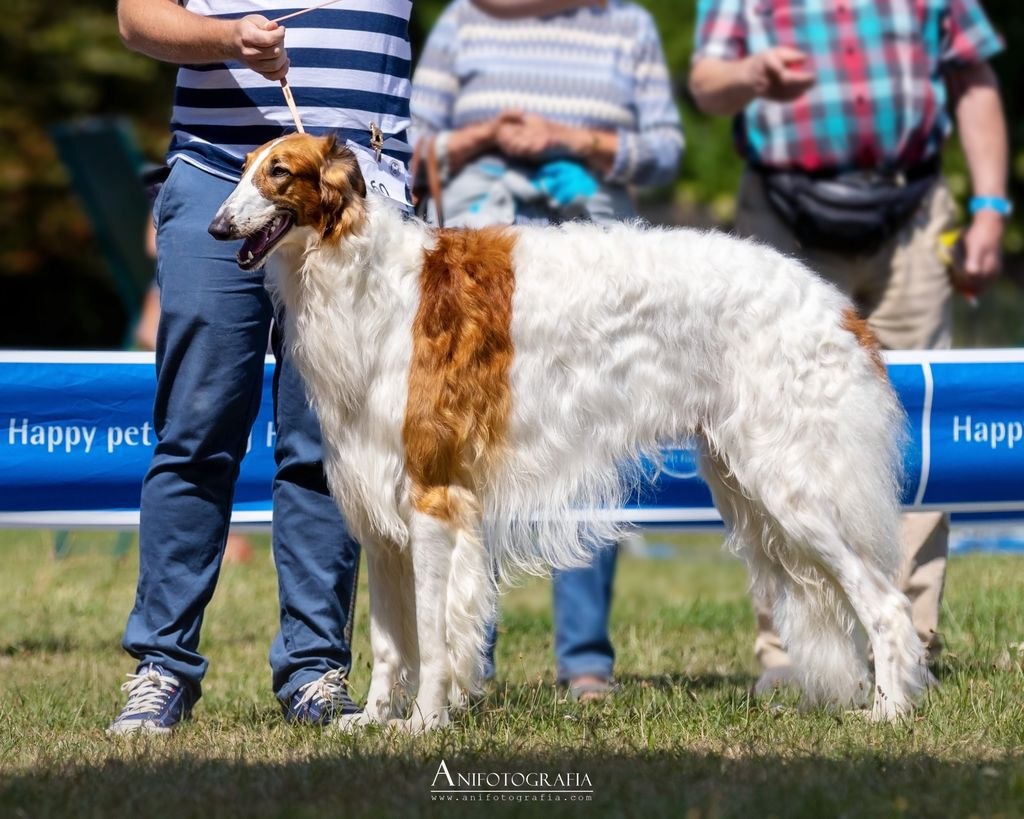borzoi: (204, 118, 941, 744)
